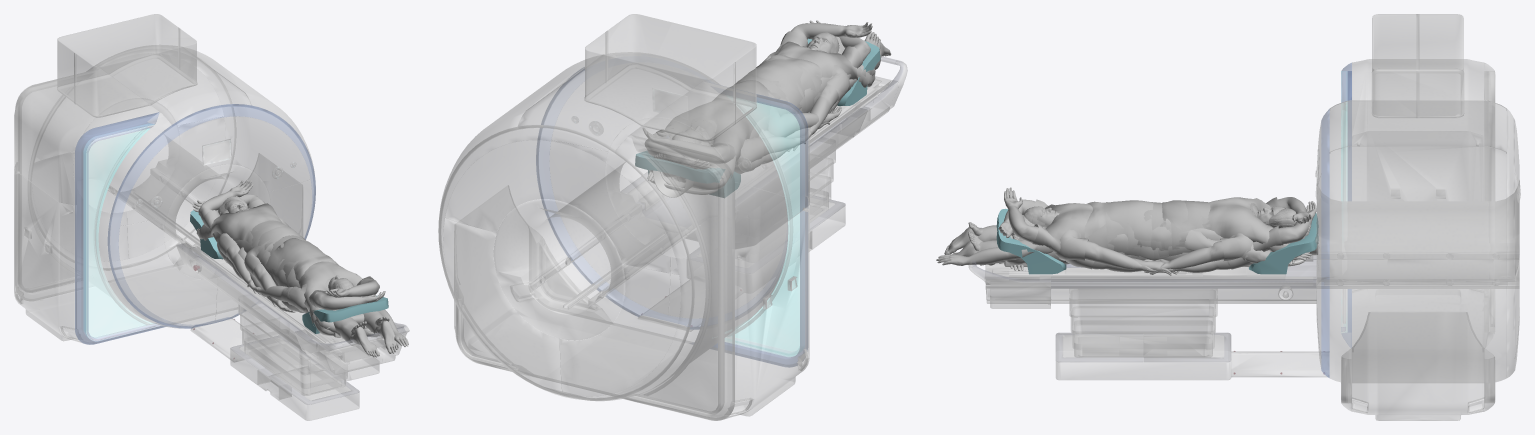
Rendered from Gordo.glb.
The picture shows the model from 3 angles, left to right: view 1: azimuth 30°, elevation 25°; view 2: azimuth 150°, elevation 25°; view 3: azimuth 270°, elevation 25°; orthographic projection. The views are drawn at different scales.
Visible parts, largest first — view 1: SM_MRI_base, Table, M1_scrubShirt_geo.007, M1_body_geo.010, M1_scrubShirt_geo.010, M1_body_geo.006, M1_scrubShirt_geo.004, SM_MRI_bed_inOut.001, M1_body_geo, SM_head_arm_rest1.001, M1_scrubShirt_geo, M1_scrubPants_geo.006 (+5 smaller); view 2: SM_MRI_base, Table, M1_scrubShirt_geo.007, M1_scrubShirt_geo.010, M1_body_geo, M1_body_geo.010, SM_head_arm_rest1, M1_scrubShirt_geo.004, M1_scrubShirt_geo.001, M1_scrubShirt_geo.006, M1_scrubShirt_geo, SM_head_arm_rest1.001 (+9 smaller); view 3: SM_MRI_base, Table, SM_MRI_bed_inOut.001, M1_scrubShirt_geo.007, M1_scrubShirt_geo.010, M1_body_geo.010, M1_body_geo, SM_head_arm_rest1, SM_head_arm_rest1.001, M1_scrubShirt_geo.004, M1_scrubShirt_geo, M1_scrubShirt_geo.001 (+10 smaller).
Boxes of the visible parts, x1=… form: SM_MRI_base: x1=14, y1=14, x2=315, y2=344; Table: x1=176, y1=243, x2=409, y2=420; M1_scrubShirt_geo.007: x1=201, y1=203, x2=304, y2=249; M1_body_geo.010: x1=313, y1=275, x2=385, y2=310; M1_scrubShirt_geo.010: x1=267, y1=238, x2=373, y2=307; M1_body_geo.006: x1=253, y1=263, x2=398, y2=357; M1_scrubShirt_geo.004: x1=271, y1=261, x2=362, y2=325; SM_MRI_bed_inOut.001: x1=201, y1=252, x2=358, y2=352; M1_body_geo: x1=192, y1=179, x2=260, y2=221; SM_head_arm_rest1.001: x1=302, y1=295, x2=388, y2=333; M1_scrubShirt_geo: x1=203, y1=199, x2=302, y2=260; M1_scrubPants_geo.006: x1=285, y1=267, x2=382, y2=346; SM_MRI_base: x1=438, y1=14, x2=809, y2=420; Table: x1=621, y1=56, x2=907, y2=331; M1_scrubShirt_geo.007: x1=663, y1=93, x2=775, y2=178; M1_scrubShirt_geo.010: x1=736, y1=31, x2=862, y2=112; M1_body_geo: x1=643, y1=126, x2=729, y2=169; M1_body_geo.010: x1=654, y1=20, x2=872, y2=158; SM_head_arm_rest1: x1=635, y1=151, x2=740, y2=197; M1_scrubShirt_geo.004: x1=777, y1=41, x2=869, y2=112; M1_scrubShirt_geo.001: x1=714, y1=89, x2=780, y2=173; M1_scrubShirt_geo.006: x1=760, y1=59, x2=816, y2=136; M1_scrubShirt_geo: x1=656, y1=80, x2=785, y2=165; SM_head_arm_rest1.001: x1=807, y1=38, x2=880, y2=106; SM_MRI_base: x1=1315, y1=14, x2=1520, y2=420; Table: x1=968, y1=227, x2=1328, y2=379; SM_MRI_bed_inOut.001: x1=1009, y1=264, x2=1285, y2=280; M1_scrubShirt_geo.007: x1=1166, y1=197, x2=1287, y2=256; M1_scrubShirt_geo.010: x1=1032, y1=199, x2=1153, y2=252; M1_body_geo.010: x1=998, y1=187, x2=1311, y2=242; M1_body_geo: x1=1010, y1=197, x2=1316, y2=244; SM_head_arm_rest1: x1=1249, y1=213, x2=1318, y2=274; SM_head_arm_rest1.001: x1=996, y1=208, x2=1066, y2=274; M1_scrubShirt_geo.004: x1=1026, y1=203, x2=1140, y2=264; M1_scrubShirt_geo: x1=1162, y1=197, x2=1282, y2=251; M1_scrubShirt_geo.001: x1=1171, y1=201, x2=1253, y2=269.
Size of the model in its own units: 1.94 by 2.02 by 3.58.
Materials: 6 (3 with a texture image).
